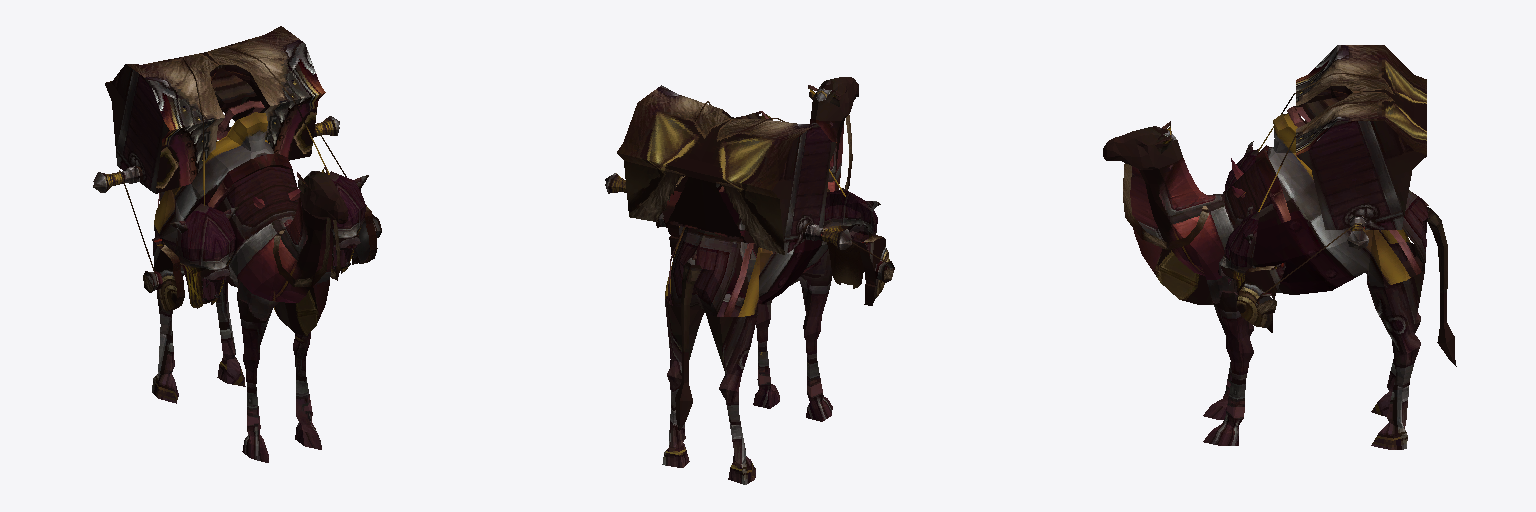
3 renders of one model, left to right at view 1: azimuth 30°, elevation 25°; view 2: azimuth 150°, elevation 25°; view 3: azimuth 270°, elevation 25°, orthographic.
Visible parts, largest first — view 1: camel_body_Mesh.005, Object3_Mesh.002, Object1_Mesh, Object6_Mesh.006, Object2_Mesh.001, Object4_Mesh.003, Object5_Mesh.004; view 2: Object3_Mesh.002, camel_body_Mesh.005, Object1_Mesh, Object6_Mesh.006, Object2_Mesh.001; view 3: camel_body_Mesh.005, Object3_Mesh.002, Object1_Mesh, Object6_Mesh.006, Object4_Mesh.003, Object5_Mesh.004, Object2_Mesh.001.
Part boxes in pixels (left/top/right/bottom): camel_body_Mesh.005: left=152, top=68, right=348, bottom=462; Object3_Mesh.002: left=105, top=26, right=325, bottom=193; Object1_Mesh: left=170, top=171, right=368, bottom=308; Object6_Mesh.006: left=143, top=205, right=381, bottom=311; Object2_Mesh.001: left=93, top=116, right=339, bottom=192; Object4_Mesh.003: left=273, top=218, right=340, bottom=286; Object5_Mesh.004: left=119, top=47, right=376, bottom=287; Object3_Mesh.002: left=617, top=85, right=836, bottom=254; camel_body_Mesh.005: left=662, top=77, right=858, bottom=484; Object1_Mesh: left=823, top=188, right=880, bottom=288; Object6_Mesh.006: left=656, top=213, right=894, bottom=305; Object2_Mesh.001: left=605, top=173, right=851, bottom=249; camel_body_Mesh.005: left=1103, top=95, right=1456, bottom=449; Object3_Mesh.002: left=1296, top=45, right=1426, bottom=229; Object1_Mesh: left=1218, top=141, right=1259, bottom=301; Object6_Mesh.006: left=1237, top=262, right=1285, bottom=332; Object4_Mesh.003: left=1123, top=163, right=1208, bottom=249; Object5_Mesh.004: left=1257, top=73, right=1381, bottom=303; Object2_Mesh.001: left=1347, top=215, right=1368, bottom=249.
Size of the model in its own units: 11.52 by 15.37 by 14.27.
Materials: 1 (1 with a texture image).